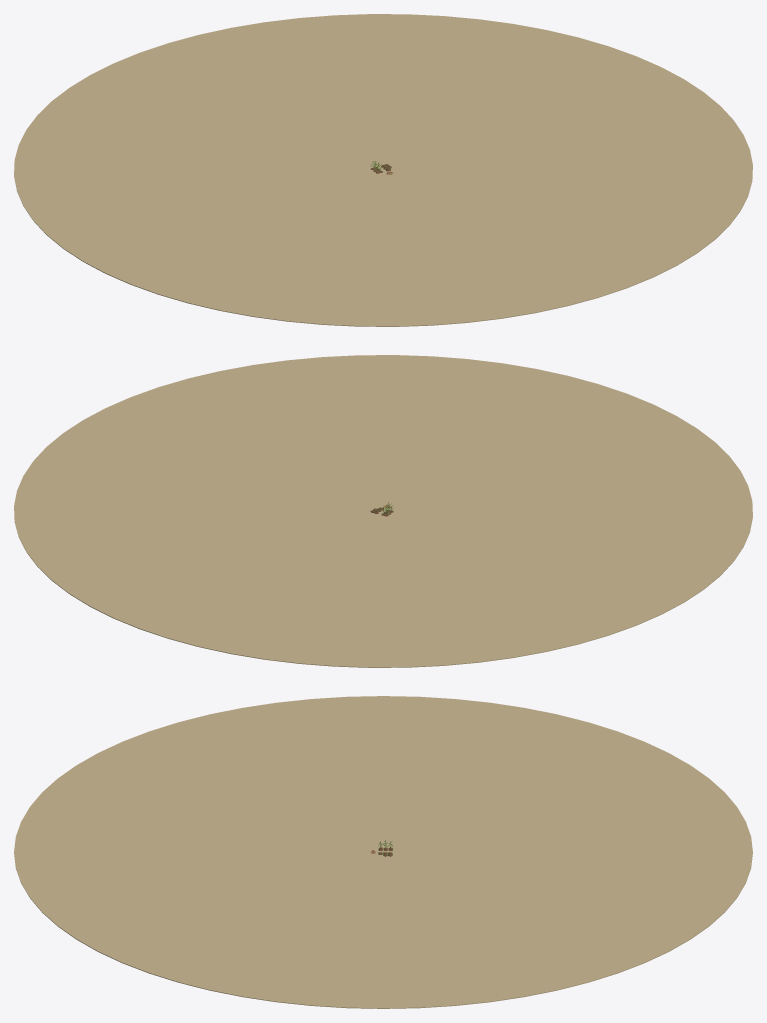
The model's file is field.glb.
3 renders of one model, top to bottom at view 1: azimuth 30°, elevation 25°; view 2: azimuth 150°, elevation 25°; view 3: azimuth 270°, elevation 25°, orthographic.
Parts seen in each view (by area): view 1: ENV_ground; view 2: ENV_ground; view 3: ENV_ground.
Boxes of the visible parts, <box> form: ENV_ground: <box>14,14,752,326</box>; ENV_ground: <box>14,355,752,667</box>; ENV_ground: <box>14,696,752,1008</box>.
Size of the model in its own units: 160 by 2.62 by 160.
